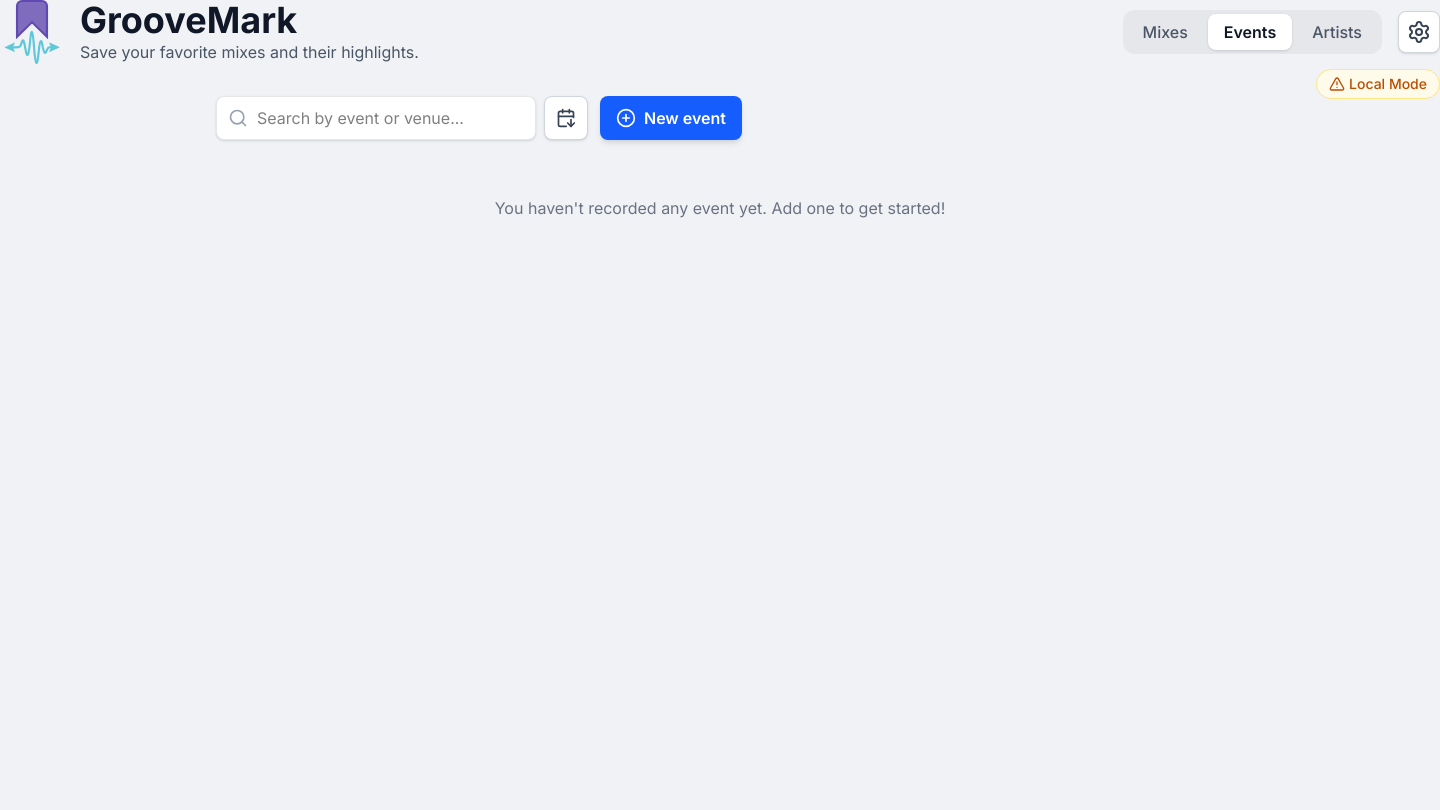
Test: EventModal in the events tab › opens an empty surface from the new-event affordance
The width and height of the screenshot is (1440, 810).
Click the button with id "add-event-btn".
click(671, 118)  # box [600,96,742,140]
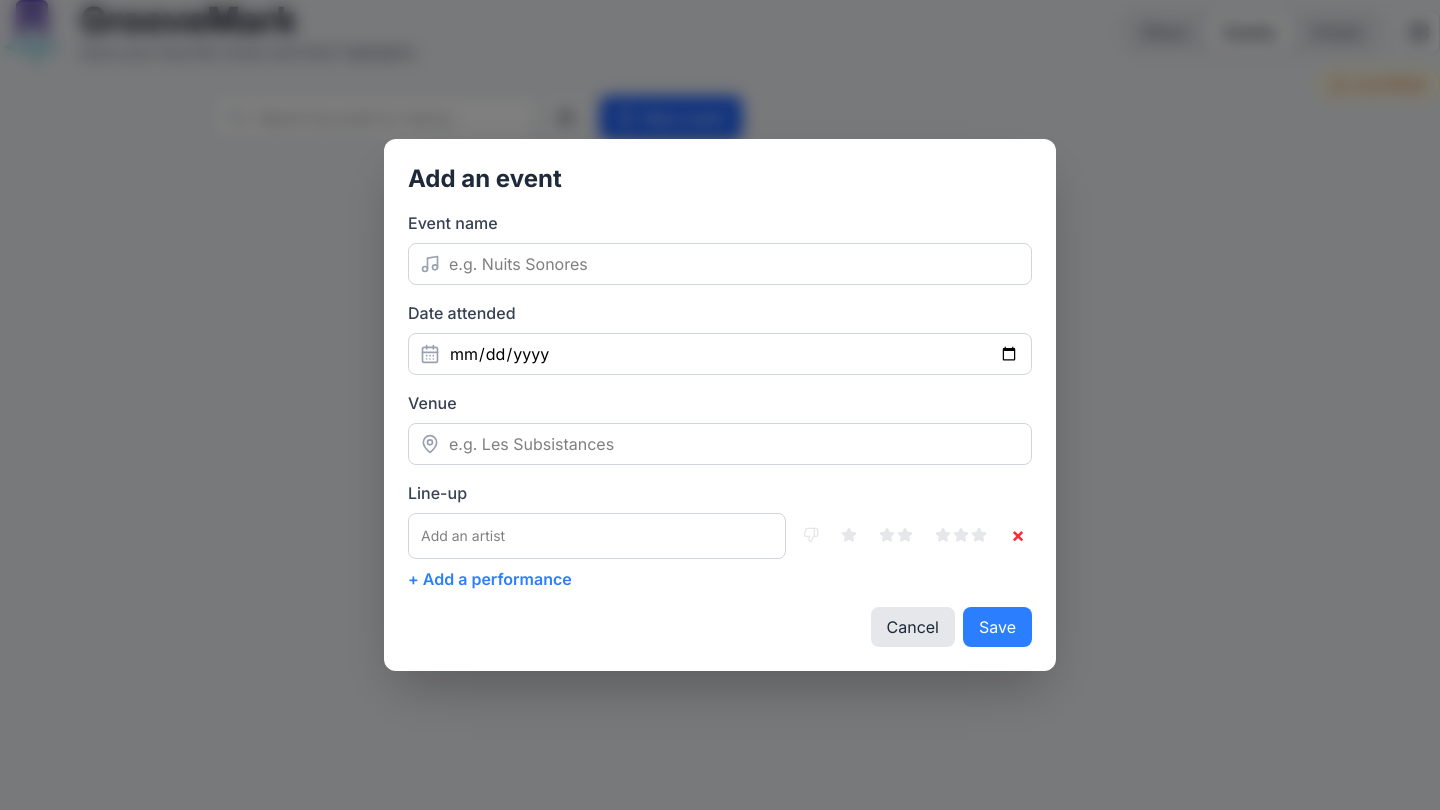
Expected: the field with id "event-name" is shown, [408,243,1032,285]
